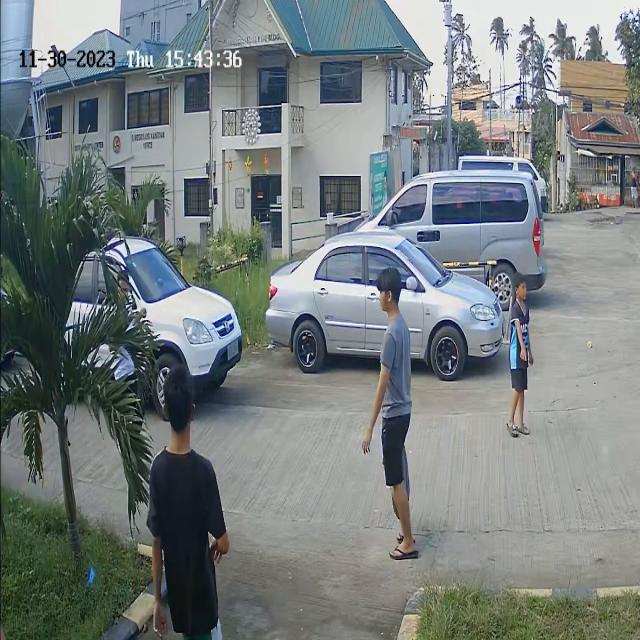person: (150, 355, 217, 561), (372, 274, 416, 400), (505, 277, 533, 400)
